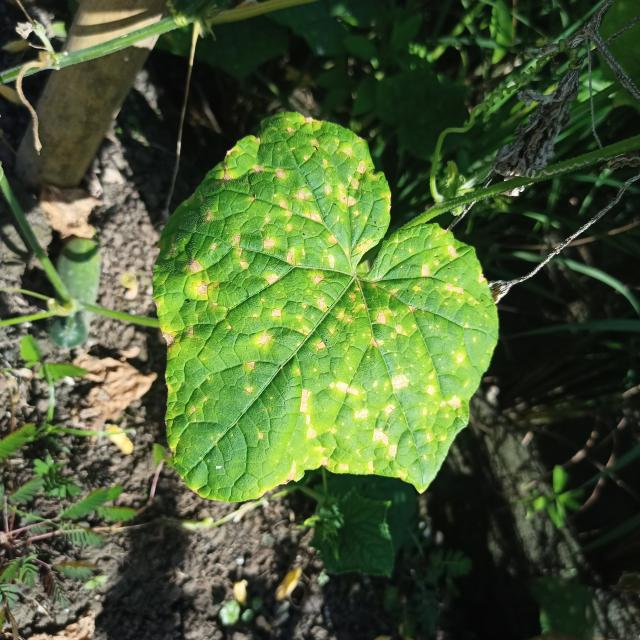disease_cucumber: (160, 116, 492, 500)
